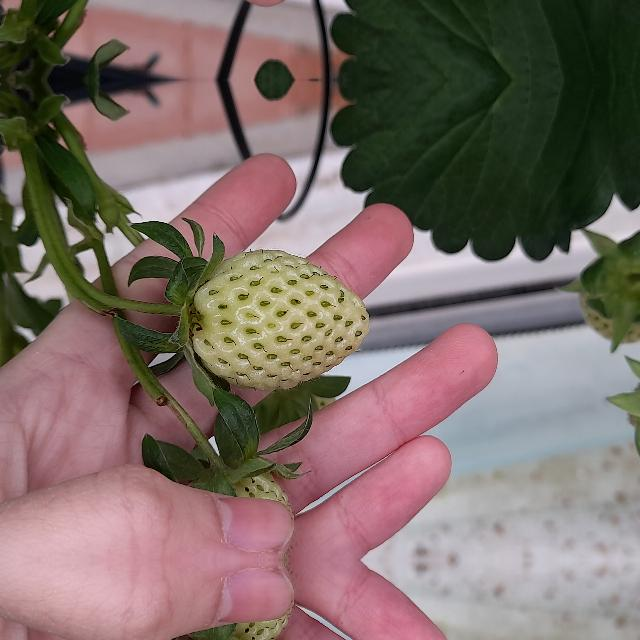Health_25: (192, 249, 368, 391)
